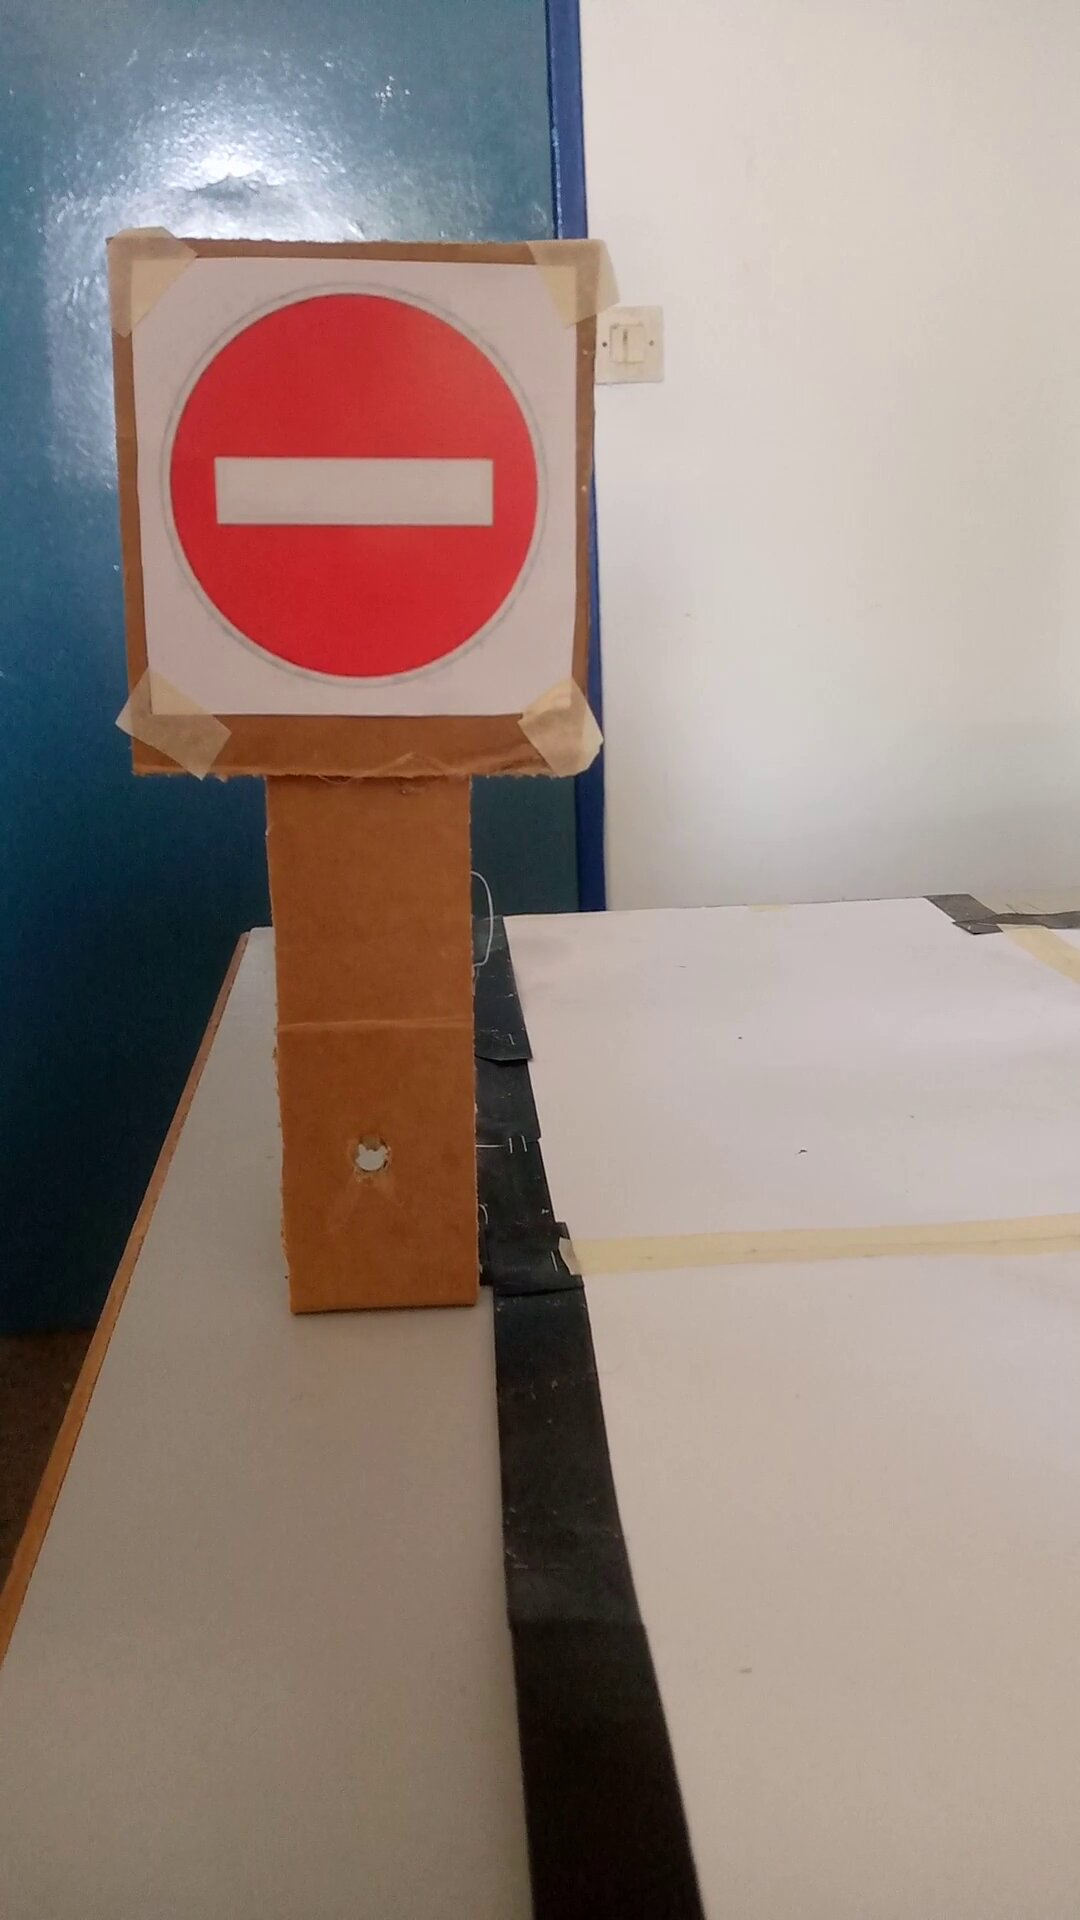panel010: (131, 257, 578, 740)
